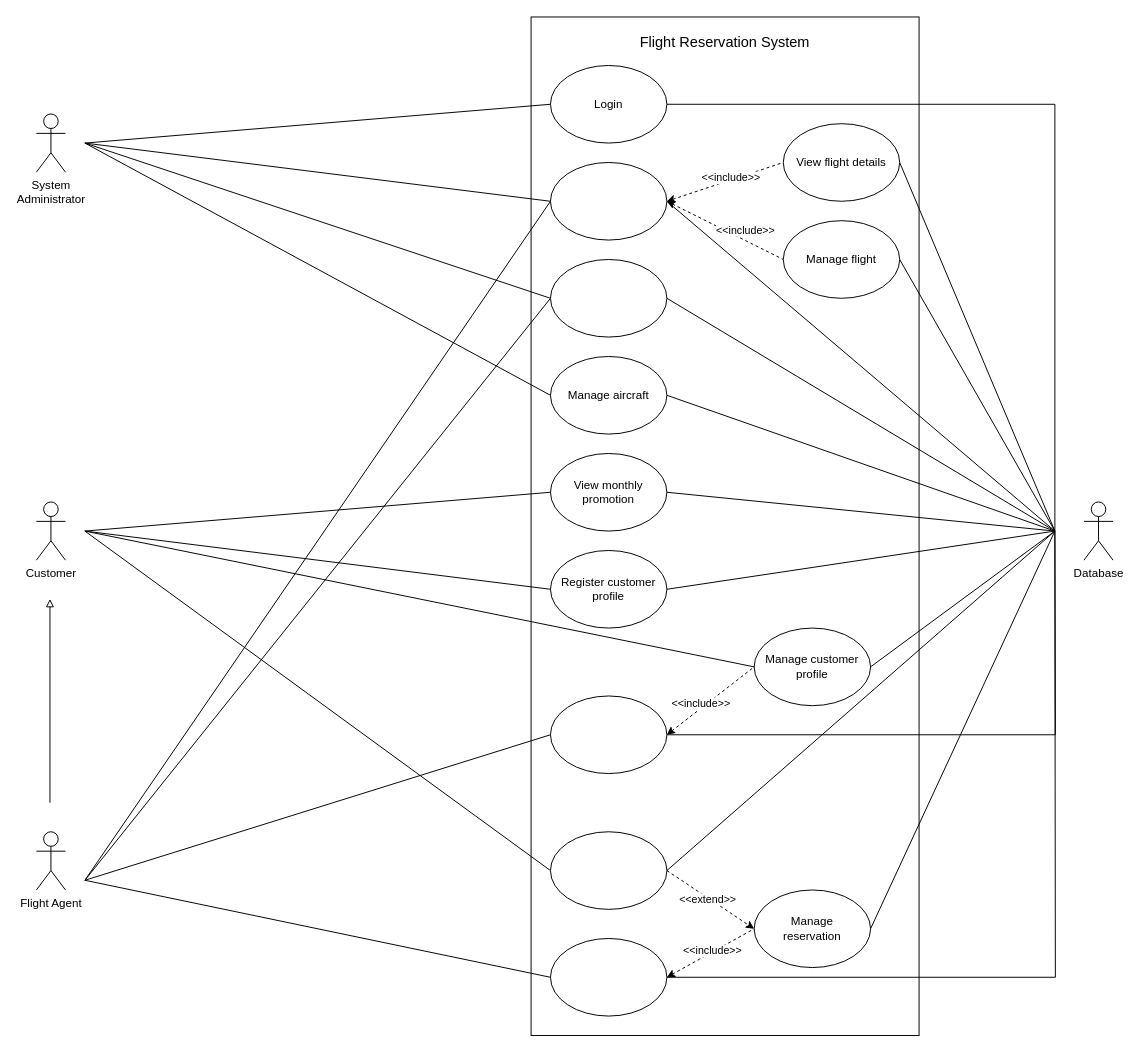
The diagram is 1140 pixels wide and 1052 high, and some of its shapes have lost their labels. Here are the shapes that lost their labels. From the top down, the centre of each, then its label:
At [608,201]: "Search flights".
At [608,298]: "View flight schedule".
At [608,734]: "Search customers".
At [608,870]: "View reservations".
At [608,977]: "Search reservations".
